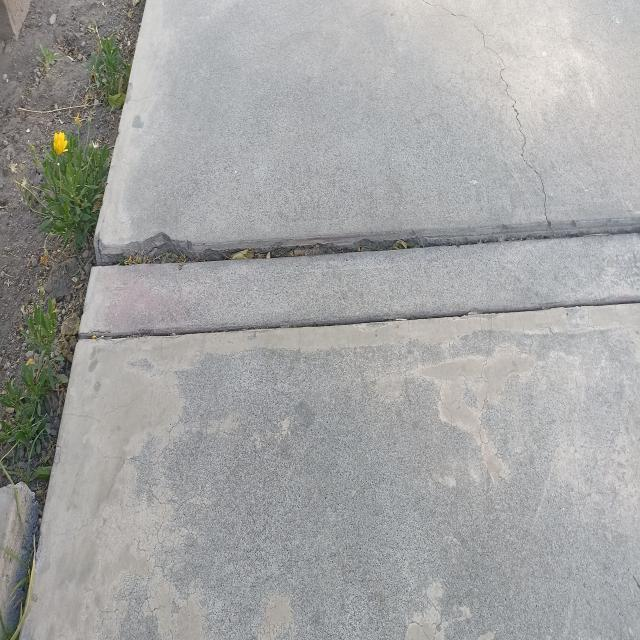hole: (90, 210, 377, 276)
